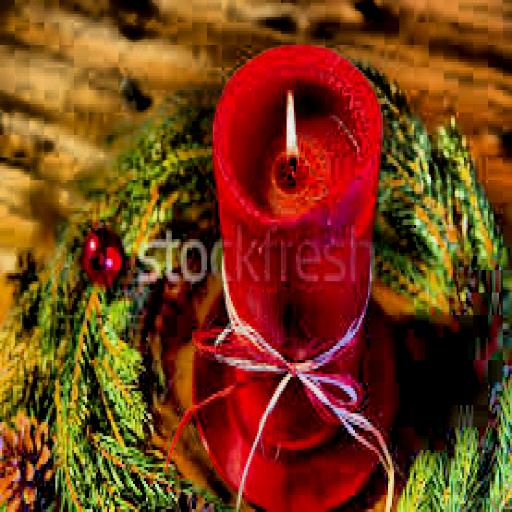fire: (277, 87, 303, 169)
